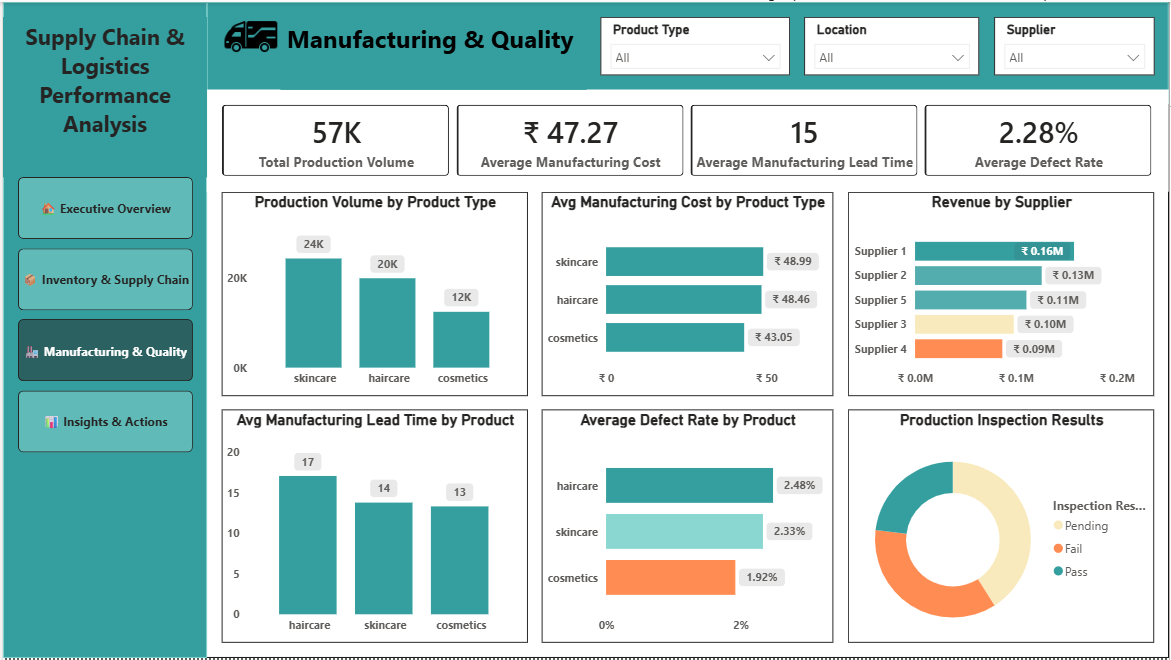

Layout of this report page (visuals, bound fields, positions):
{"tool":"powerbi","page":{"name":"🏭 Manufacturing & Quality","canvas":[1280,720],"ordinal":2},"visuals":[{"type":"shape","box":[0,0,1280,720],"z":0},{"type":"shape","box":[0,0,224,720],"z":1000},{"type":"shape","box":[224,0,1056,112],"z":2000},{"type":"cardVisual","fields":{"Data":["Measures_Table.Total Production Volume","Measures_Table.Average Manufacturing Cost","Measures_Table.Average Manufacturing Lead Time","Measures_Table.Average Defect Rate"]},"box":[224,96,1056,112],"z":3000},{"type":"barChart","title":"Average Defect Rate by Product","fields":{"Category":["supply_chain.product_type"],"Y":["Measures_Table.Average Defect Rate"]},"box":[592,448,320,256],"z":4000},{"type":"slicer","fields":{"Values":["supply_chain.location"]},"box":[880,16,192,64],"z":5000},{"type":"slicer","fields":{"Values":["supply_chain.supplier_name"]},"box":[1088,16,176,64],"z":6000},{"type":"slicer","fields":{"Values":["supply_chain.product_type"]},"box":[656,16,208,64],"z":7000},{"type":"clusteredColumnChart","title":"Production Volume by Product Type","fields":{"Category":["supply_chain.product_type"],"Y":["Measures_Table.Total Production Volume"]},"box":[240,208,336,224],"z":8000},{"type":"clusteredBarChart","title":"Avg Manufacturing Cost by Product Type","fields":{"Y":["Measures_Table.Average Manufacturing Cost"],"Category":["supply_chain.product_type"]},"box":[592,208,320,224],"z":9000},{"type":"clusteredBarChart","title":"Revenue by Supplier","fields":{"Category":["supply_chain.supplier_name"],"Y":["Measures_Table.Total Revenue"]},"box":[928,208,336,224],"z":10000},{"type":"donutChart","title":"Production Inspection Results","fields":{"Category":["supply_chain.inspection_results"],"Y":["CountNonNull(supply_chain.sku)"]},"box":[928,448,336,256],"z":11000},{"type":"clusteredColumnChart","title":"Avg Manufacturing Lead Time by Product","fields":{"Category":["supply_chain.product_type"],"Y":["Measures_Table.Average Manufacturing Lead Time"]},"box":[240,448,336,256],"z":12000},{"type":"textbox","box":[304,16,336,80],"z":13000},{"type":"textbox","box":[0,16,224,176],"z":14000},{"type":"image","box":[240,0,64,64],"z":15000},{"type":"pageNavigator","box":[16,192,192,304],"z":16000}]}

Visuals, with their boxes in screenshot pixels (x1, y1, x2, y2), scaled from the page's 1280x720 canvas onto the 1171x660 screenshot:
shape: {"left": 0, "top": 0, "right": 1170, "bottom": 659}
shape: {"left": 0, "top": 0, "right": 205, "bottom": 659}
shape: {"left": 205, "top": 0, "right": 1170, "bottom": 103}
cardVisual - Measures_Table.Total Production Volume x Measures_Table.Average Manufacturing Cost: {"left": 205, "top": 88, "right": 1170, "bottom": 191}
"Average Defect Rate by Product" barChart: {"left": 542, "top": 411, "right": 834, "bottom": 645}
slicer - supply_chain.location: {"left": 805, "top": 15, "right": 981, "bottom": 73}
slicer - supply_chain.supplier_name: {"left": 995, "top": 15, "right": 1156, "bottom": 73}
slicer - supply_chain.product_type: {"left": 600, "top": 15, "right": 790, "bottom": 73}
"Production Volume by Product Type" clusteredColumnChart: {"left": 220, "top": 191, "right": 527, "bottom": 396}
"Avg Manufacturing Cost by Product Type" clusteredBarChart: {"left": 542, "top": 191, "right": 834, "bottom": 396}
"Revenue by Supplier" clusteredBarChart: {"left": 849, "top": 191, "right": 1156, "bottom": 396}
"Production Inspection Results" donutChart: {"left": 849, "top": 411, "right": 1156, "bottom": 645}
"Avg Manufacturing Lead Time by Product" clusteredColumnChart: {"left": 220, "top": 411, "right": 527, "bottom": 645}
textbox: {"left": 278, "top": 15, "right": 586, "bottom": 88}
textbox: {"left": 0, "top": 15, "right": 205, "bottom": 176}
image: {"left": 220, "top": 0, "right": 278, "bottom": 59}
pageNavigator: {"left": 15, "top": 176, "right": 190, "bottom": 455}
